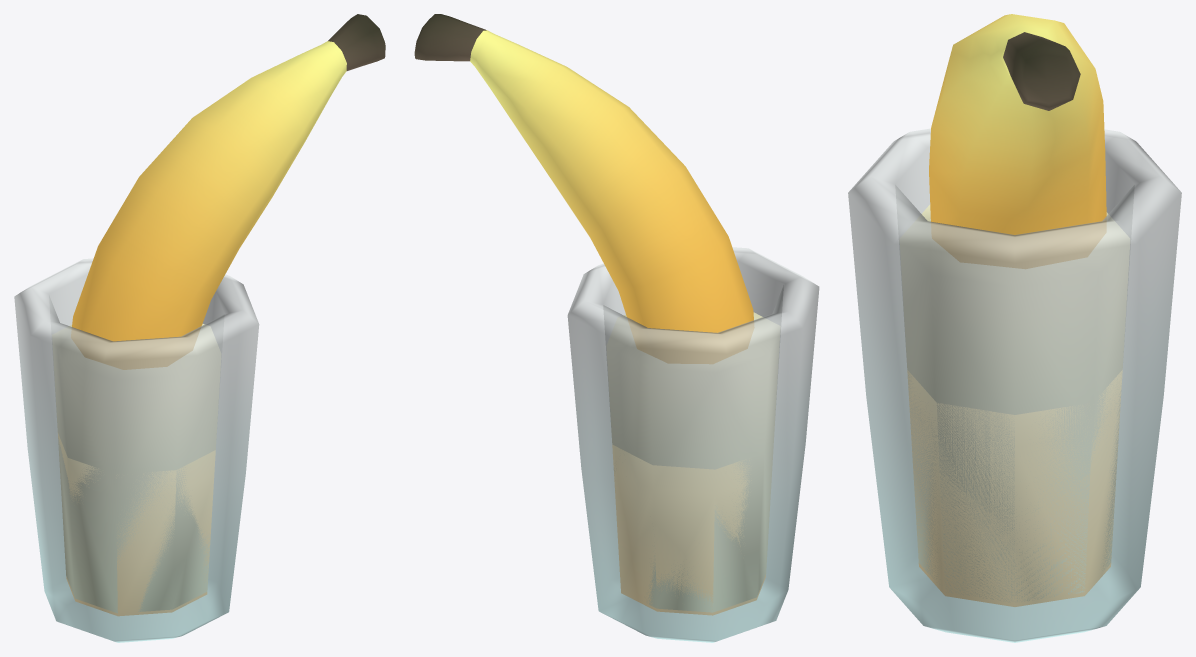
File: secret.glb
3 renders of one model, left to right at view 1: azimuth 30°, elevation 25°; view 2: azimuth 150°, elevation 25°; view 3: azimuth 270°, elevation 25°, orthographic. The views are drawn at different scales.
Visible parts, largest first — view 1: glas, banaenae, melk; view 2: glas, banaenae, melk; view 3: glas, melk, banaenae.
Part boxes in pixels (<box>): glas: <box>14,258,259,642</box>; banaenae: <box>71,14,385,369</box>; melk: <box>52,324,220,616</box>; glas: <box>567,247,819,642</box>; banaenae: <box>414,14,754,363</box>; melk: <box>606,312,780,615</box>; glas: <box>848,128,1181,642</box>; melk: <box>900,204,1129,606</box>; banaenae: <box>929,14,1106,268</box>.
Size of the model in its own units: 4.07 by 5.73 by 2.41.
3 materials, 3 textured.
